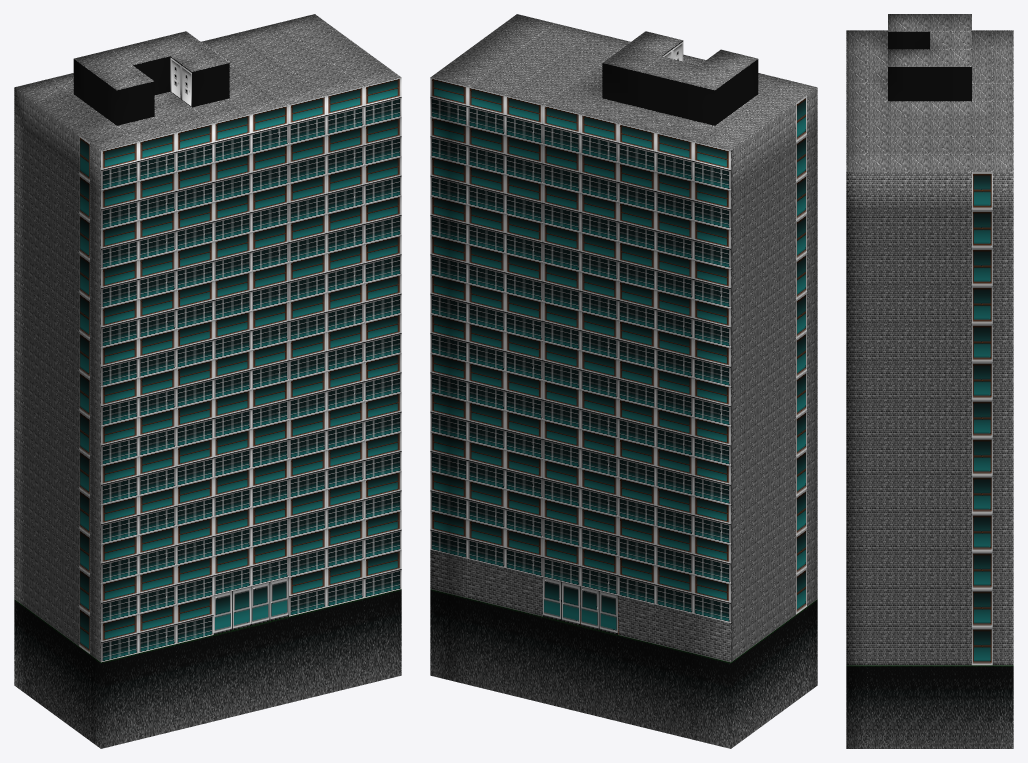
The model's file is kantoor_mod3_2b.fbx.
3 renders of one model, left to right at view 1: azimuth 30°, elevation 25°; view 2: azimuth 150°, elevation 25°; view 3: azimuth 270°, elevation 25°, orthographic. The views are drawn at different scales.
Visible parts, largest first — view 1: kantoor_mod3_2b; view 2: kantoor_mod3_2b; view 3: kantoor_mod3_2b.
Boxes of the visible parts, left/top/right/bottom form: kantoor_mod3_2b: left=14, top=14, right=401, bottom=748; kantoor_mod3_2b: left=430, top=14, right=817, bottom=748; kantoor_mod3_2b: left=846, top=14, right=1013, bottom=748.
Bounding box in the file's own units: 2880 × 5796 × 1440.
